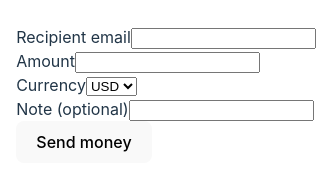
Test: <SendMoneyForm /> › shows a contextual submit error and re-enables the form on failure
Type "friend@example.com" into the field labelled "Recipient email" at (223, 39), box [131,28,316,49]
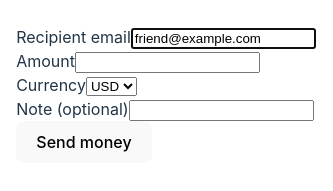
Type "100" into the field labelled "Amount" at (168, 63), box [75,52,260,73]
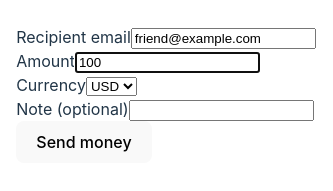
Click the button "Send money" at (84, 142), box [16,121,152,163]
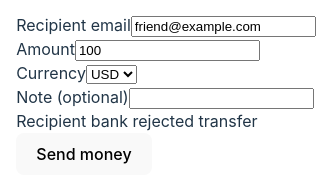
Check: the button "Send money" is enabled, box [16,133,152,175]
Check: the message reads "Recipient bank rejected transfer", box [16,111,258,131]
